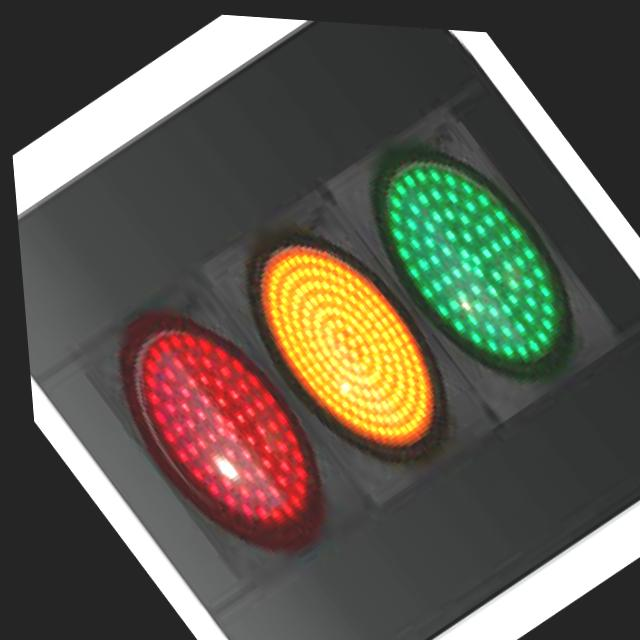Hijau: (331, 109, 604, 400)
Kuning: (207, 197, 478, 486)
Merah: (84, 290, 341, 563)
